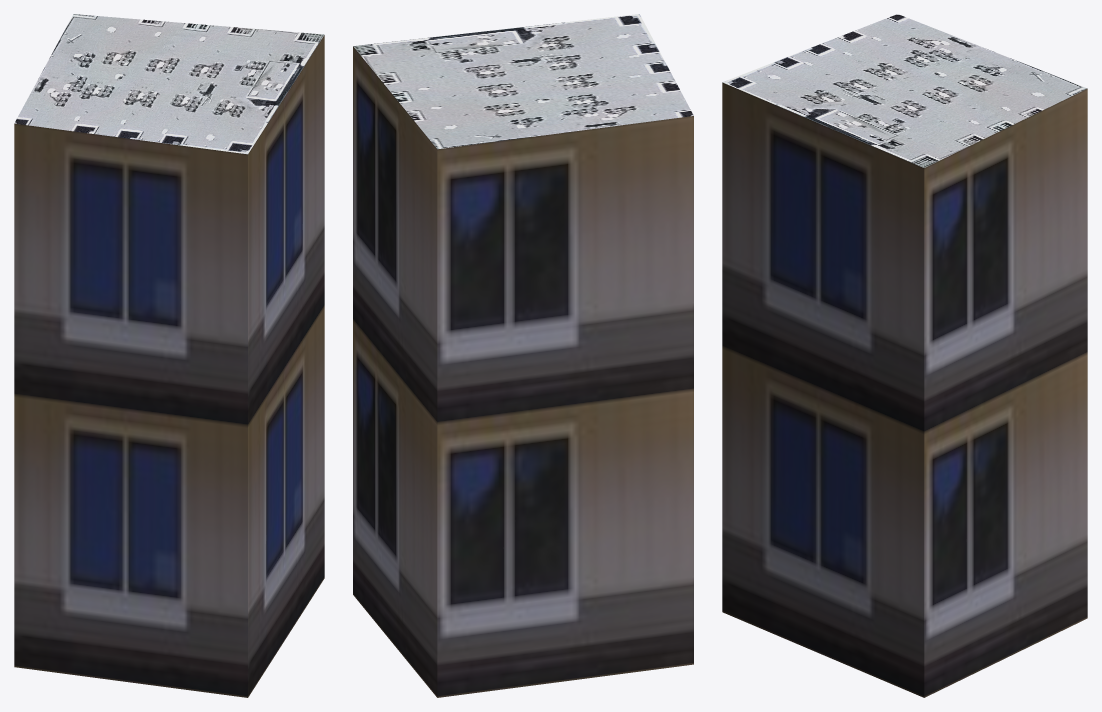
File: ResTex__1798.fbx
3 renders of one model, left to right at view 1: azimuth 30°, elevation 25°; view 2: azimuth 150°, elevation 25°; view 3: azimuth 270°, elevation 25°, orthographic. The views are drawn at different scales.
Parts seen in each view (by area): view 1: CityEngineMaterial_5_m, CityEngineMaterial_8_m; view 2: CityEngineMaterial_5_m, CityEngineMaterial_8_m; view 3: CityEngineMaterial_5_m, CityEngineMaterial_8_m.
Part boxes in pixels (box(x1,y1,x2,y2)): CityEngineMaterial_5_m: box(14, 35, 324, 697); CityEngineMaterial_8_m: box(14, 14, 324, 154); CityEngineMaterial_5_m: box(353, 46, 693, 697); CityEngineMaterial_8_m: box(353, 14, 693, 149); CityEngineMaterial_5_m: box(722, 82, 1087, 697); CityEngineMaterial_8_m: box(722, 14, 1087, 167).
Bounding box in the file's own units: 3.74 × 6 × 3.75.
Materials: 2 (2 with a texture image).
